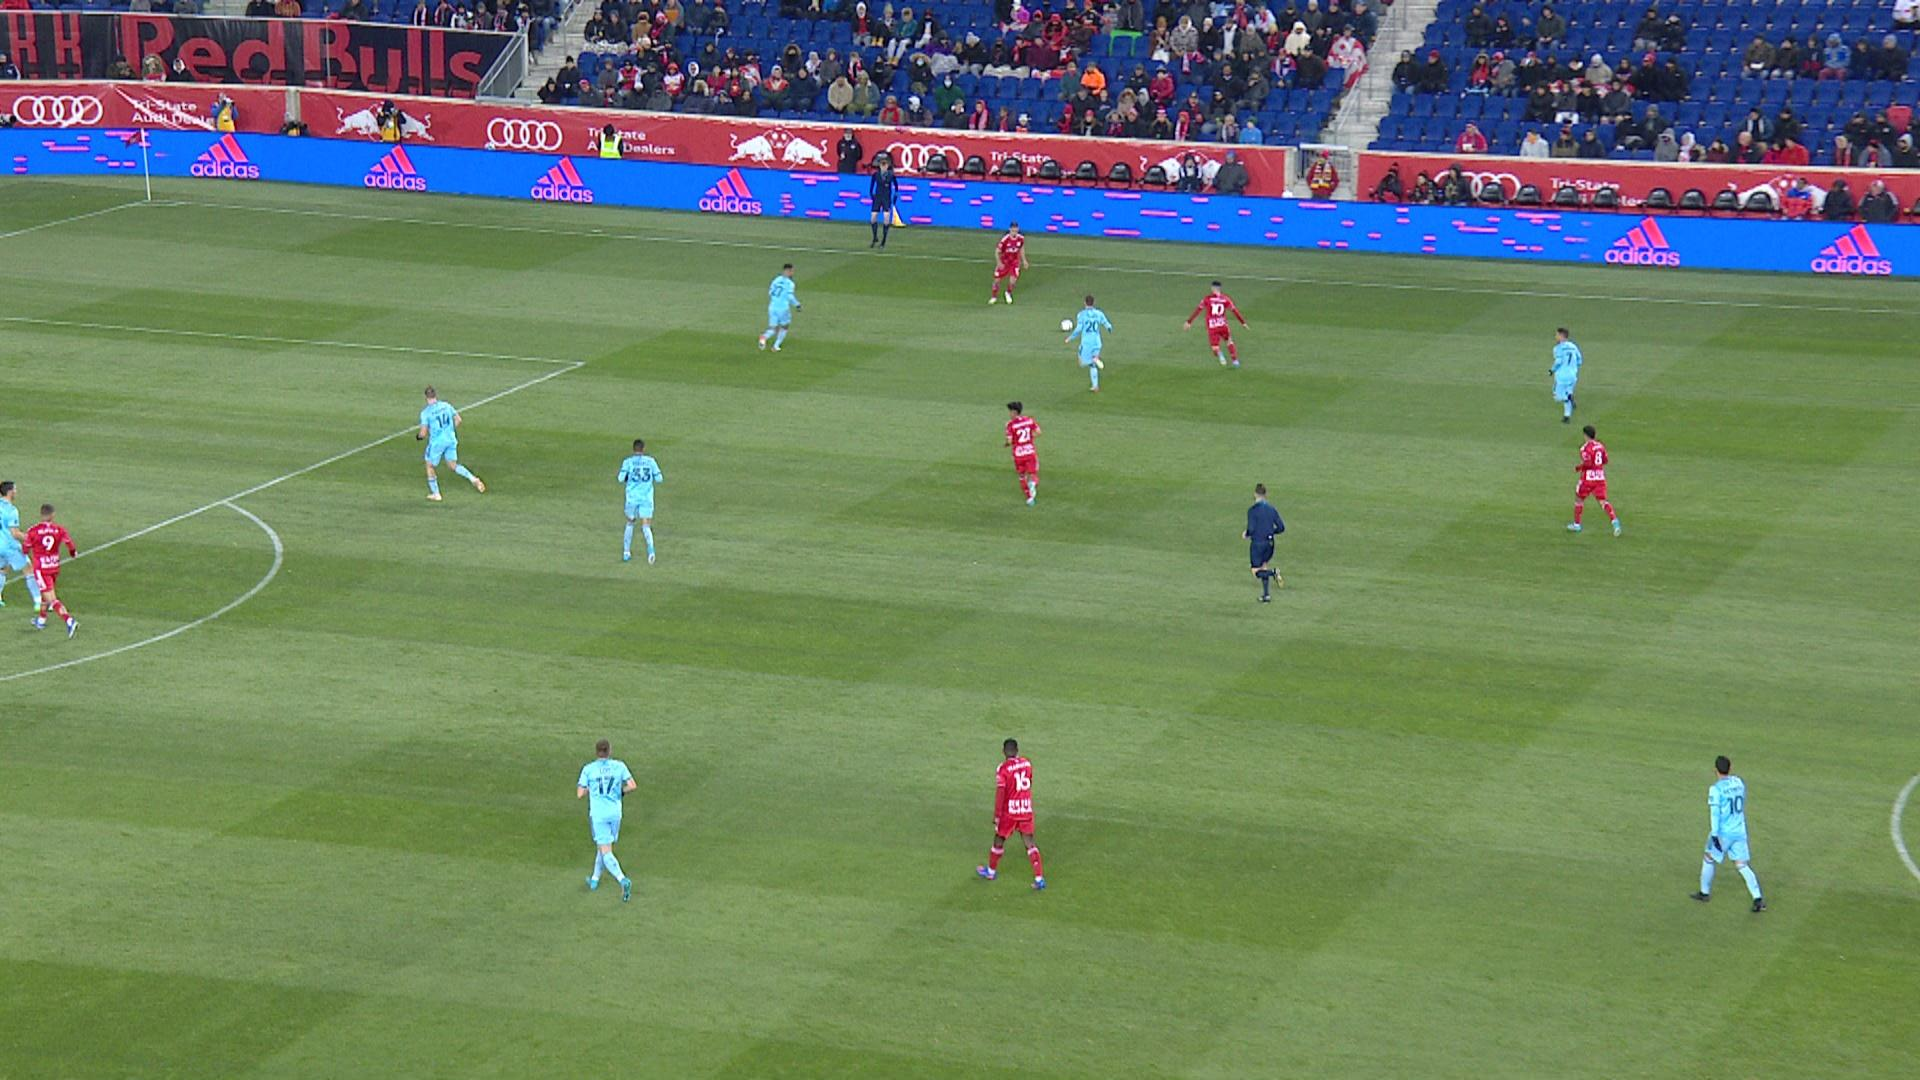football: (1059, 318, 1073, 331)
